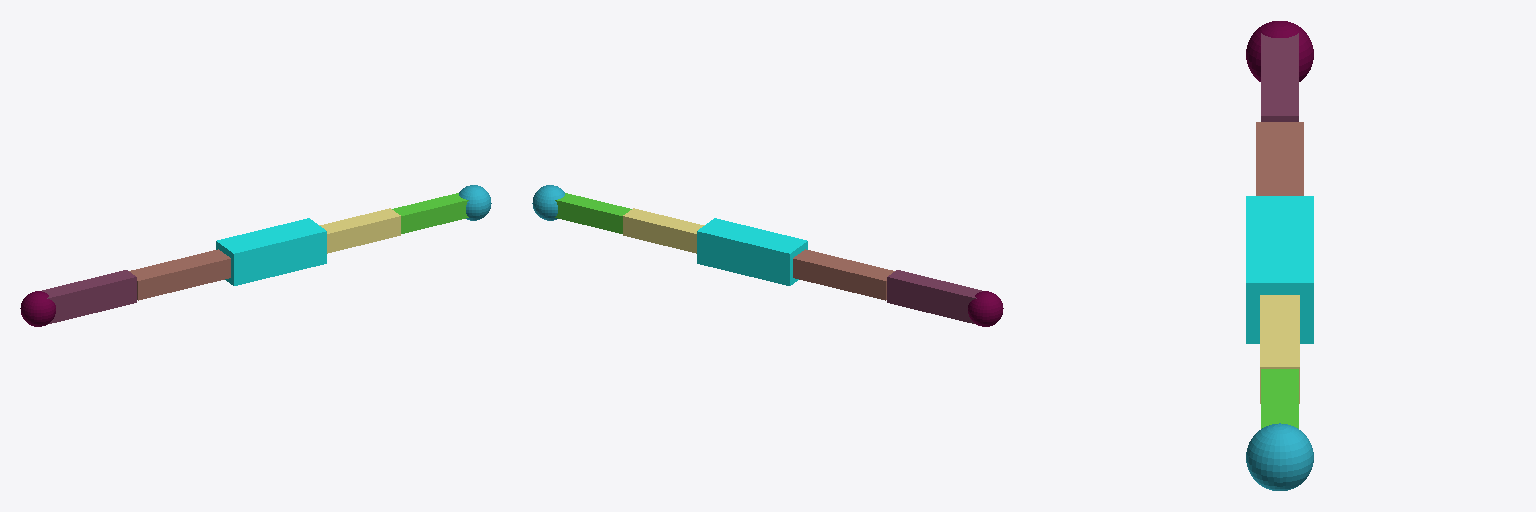
robot.urdf — basic_robot:
<?xml version="1.0"?>
<robot  name="basic_robot" >
 <link  name="link1" >
  <visual >
   <origin  rpy="0 0 0"  xyz="0.25 0 0" />
   <geometry >
    <box  size="0.5 0.12 0.12" />
   </geometry>
   <material  name="link1_material" >
    <color  rgba="0.9174756541192329 0.8762602017382229 0.5446987936566259 0.2" />
   </material>
  </visual>
  <collision >
   <origin  rpy="0 0 0"  xyz="0.25 0 0" />
   <geometry >
    <box  size="0.5 0.12 0.12" />
   </geometry>
  </collision>
  <inertial >
   <origin  rpy="0 0 0"  xyz="0.25 0 0" />
   <mass  value="5" />
   <inertia  izz="0.4226666666666667"  ixx="0.106"  ixy="0"  iyz="0"  ixz="0"  iyy="0.4226666666666667" />
  </inertial>
 </link>
 <link  name="link2" >
  <visual >
   <origin  rpy="0 0 0"  xyz="0.25 0 0" />
   <geometry >
    <box  size="0.5 0.11 0.11" />
   </geometry>
   <material  name="link2_material" >
    <color  rgba="0.39284838413773693 0.8490635282216377 0.2909041756510121 0.2" />
   </material>
  </visual>
  <collision >
   <origin  rpy="0 0 0"  xyz="0.25 0 0" />
   <geometry >
    <box  size="0.5 0.11 0.11" />
   </geometry>
  </collision>
  <inertial >
   <origin  rpy="0 0 0"  xyz="0.25 0 0" />
   <mass  value="5" />
   <inertia  izz="0.42170833333333335"  ixx="0.09670833333333334"  ixy="0"  iyz="0"  ixz="0"  iyy="0.42170833333333335" />
  </inertial>
 </link>
 <link  name="base_link" >
  <visual >
   <origin  rpy="0 0 0"  xyz="0.3 0 0" />
   <geometry >
    <box  size="0.6 0.2 0.2" />
   </geometry>
   <material  name="base_link_material" >
    <color  rgba="0.1547887920023292 0.9360495464899368 0.93206446751931 0.2" />
   </material>
  </visual>
  <collision >
   <origin  rpy="0 0 0"  xyz="0.3 0 0" />
   <geometry >
    <box  size="0.6 0.2 0.2" />
   </geometry>
  </collision>
  <inertial >
   <origin  rpy="0 0 0"  xyz="0.3 0 0" />
   <mass  value="5" />
   <inertia  izz="0.5166666666666667"  ixx="0.18333333333333335"  ixy="0"  iyz="0"  ixz="0"  iyy="0.5166666666666667" />
  </inertial>
 </link>
 <link  name="link3" >
  <visual >
   <origin  rpy="0 0 0"  xyz="0.3 0 0" />
   <geometry >
    <box  size="0.6 0.14 0.12" />
   </geometry>
   <material  name="link3_material" >
    <color  rgba="0.6779871336456591 0.4732600889646632 0.4248651166155757 0.2" />
   </material>
  </visual>
  <collision >
   <origin  rpy="0 0 0"  xyz="0.3 0 0" />
   <geometry >
    <box  size="0.6 0.14 0.12" />
   </geometry>
  </collision>
  <inertial >
   <origin  rpy="0 0 0"  xyz="0.3 0 0" />
   <mass  value="5" />
   <inertia  izz="0.5081666666666667"  ixx="0.12266666666666669"  ixy="0"  iyz="0"  ixz="0"  iyy="0.5059999999999999" />
  </inertial>
 </link>
 <link  name="link4" >
  <visual >
   <origin  rpy="0 0 0"  xyz="0.3 0 0" />
   <geometry >
    <box  size="0.6 0.11 0.16" />
   </geometry>
   <material  name="link4_material" >
    <color  rgba="0.521099661256421 0.3005862301729352 0.417710189840244 0.2" />
   </material>
  </visual>
  <collision >
   <origin  rpy="0 0 0"  xyz="0.3 0 0" />
   <geometry >
    <box  size="0.6 0.11 0.16" />
   </geometry>
  </collision>
  <inertial >
   <origin  rpy="0 0 0"  xyz="0.3 0 0" />
   <mass  value="5" />
   <inertia  izz="0.5050416666666666"  ixx="0.10233333333333333"  ixy="0"  iyz="0"  ixz="0"  iyy="0.5106666666666667" />
  </inertial>
 </link>
 <joint  type="revolute"  name="joint1" >
  <origin  rpy="0 0 0"  xyz="0.5 0 0" />
  <parent  link="link1" />
  <child  link="link2" />
  <axis  xyz="0 0 1" />
  <limit  effort="5"  lower="-3.141592653589793"  velocity="50"  upper="3.141592653589793" />
 </joint>
 <joint  type="revolute"  name="joint2" >
  <origin  rpy="0 0 0"  xyz="0.6 0 0" />
  <parent  link="base_link" />
  <child  link="link1" />
  <axis  xyz="0 0 1" />
  <limit  effort="5"  lower="-3.141592653589793"  velocity="50"  upper="3.141592653589793" />
 </joint>
 <joint  type="revolute"  name="joint3" >
  <origin  rpy="0 0 3.14159"  xyz="0.0 0 0" />
  <parent  link="base_link" />
  <child  link="link3" />
  <axis  xyz="0 0 1" />
  <limit  effort="5"  lower="-3.141592653589793"  velocity="50"  upper="3.141592653589793" />
 </joint>
 <joint  type="revolute"  name="joint4" >
  <origin  rpy="0 0 0"  xyz="0.6 0 0" />
  <parent  link="link3" />
  <child  link="link4" />
  <axis  xyz="0 0 1" />
  <limit  effort="5"  lower="-3.141592653589793"  velocity="50"  upper="3.141592653589793" />
 </joint>
 <joint  type="fixed"  name="joint5" >
  <origin  rpy="0 0 0"  xyz="0.6 0 0" />
  <parent  link="link4" />
  <child  link="link5_psedo" />
  <axis  xyz="0 0 0" />
 </joint>
 <joint  type="revolute"  name="joint6" >
  <origin  rpy="0 0 0"  xyz="0.5 0 0" />
  <parent  link="link2" />
  <child  link="link6_psedo" />
  <axis  xyz="0 0 1" />
  <limit  effort="5"  velocity="50" />
 </joint>
 <link  name="link6_psedo" >
  <visual >
   <origin  rpy="0 0 0"  xyz="0 0 0" />
   <geometry >
    <sphere  radius="0.1" />
   </geometry>
   <material  name="link6_psedo_material" >
    <color  rgba="0.22975774033044838 0.7104728288350008 0.8010084447803063 0.2" />
   </material>
  </visual>
  <inertial >
   <origin  rpy="0 0 0"  xyz="0 0 0" />
   <mass  value="1e-09" />
   <inertia  izz="0.0"  ixx="0.0"  ixy="0"  iyz="0"  ixz="0"  iyy="0.0" />
  </inertial>
 </link>
 <link  name="link5_psedo" >
  <visual >
   <origin  rpy="0 0 0"  xyz="0 0 0" />
   <geometry >
    <sphere  radius="0.1" />
   </geometry>
   <material  name="link5_psedo_material" >
    <color  rgba="0.45907991034241613 0.06044172251685431 0.3008860408413019 0.2" />
   </material>
  </visual>
  <inertial >
   <origin  rpy="0 0 0"  xyz="0 0 0" />
   <mass  value="1e-09" />
   <inertia  izz="0.0"  ixx="0.0"  ixy="0"  iyz="0"  ixz="0"  iyy="0.0" />
  </inertial>
 </link>
</robot>

--- What the picture shows (computed from the rendered views, not written in the file) ---
Views: 3 orthographic renders of the robot side by side, from view 1: azimuth 30°, elevation 25°; view 2: azimuth 150°, elevation 25°; view 3: azimuth 270°, elevation 25°.
Model basic_robot with 7 links and 6 joints (5 revolute, 1 fixed), rooted at base_link, posed every joint at zero.
Visible links, largest first — view 1: base_link, link4, link3, link1, link2, link5_psedo, link6_psedo; view 2: base_link, link4, link3, link1, link2, link5_psedo, link6_psedo; view 3: base_link, link6_psedo, link3, link4, link1, link2, link5_psedo.
Link boxes in pixels (left/top/right/bottom): base_link: left=216, top=218, right=326, bottom=285; link4: left=42, top=270, right=136, bottom=324; link3: left=129, top=249, right=230, bottom=300; link1: left=319, top=208, right=400, bottom=253; link2: left=392, top=193, right=468, bottom=233; link5_psedo: left=20, top=291, right=55, bottom=326; link6_psedo: left=459, top=185, right=491, bottom=220; base_link: left=697, top=218, right=807, bottom=285; link4: left=887, top=270, right=981, bottom=324; link3: left=793, top=249, right=894, bottom=300; link1: left=623, top=208, right=704, bottom=253; link2: left=555, top=193, right=631, bottom=233; link5_psedo: left=968, top=291, right=1003, bottom=326; link6_psedo: left=532, top=185, right=564, bottom=220; base_link: left=1246, top=196, right=1313, bottom=343; link6_psedo: left=1246, top=423, right=1313, bottom=490; link3: left=1256, top=122, right=1303, bottom=195; link4: left=1261, top=33, right=1298, bottom=121; link1: left=1260, top=295, right=1299, bottom=403; link2: left=1261, top=369, right=1298, bottom=428; link5_psedo: left=1246, top=21, right=1313, bottom=81.
Bounding box of the posed robot: 3 × 0.2 × 0.2 m (x, y, z).
Geometry: primitives only (box / cylinder / sphere), no mesh files.